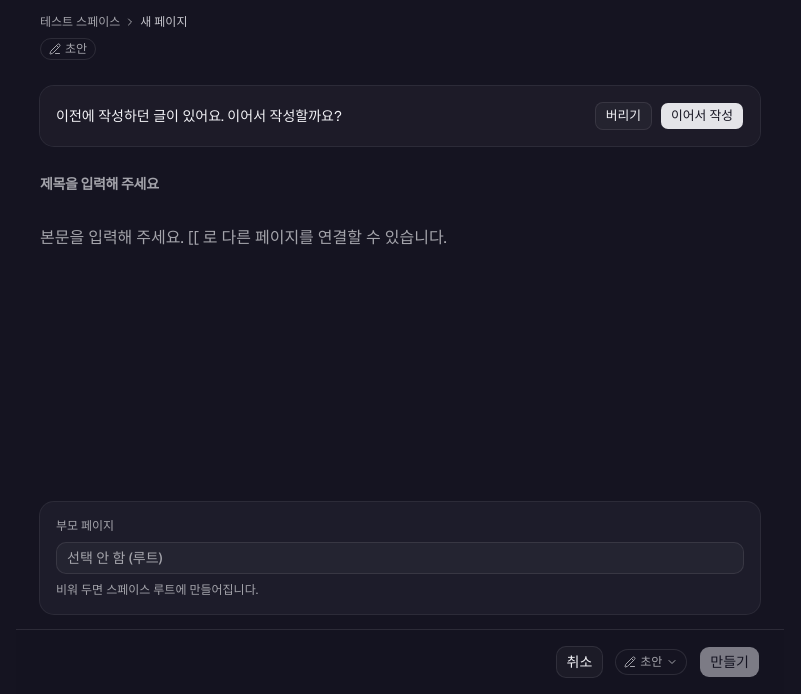
Test: NewPageView — localStorage draft › banner 의 '이어서 작성' 을 누르면 draft 가 폼에 복원된다
Click the button "이어서 작성" at {"x": 702, "y": 116}, box [660, 102, 744, 130]
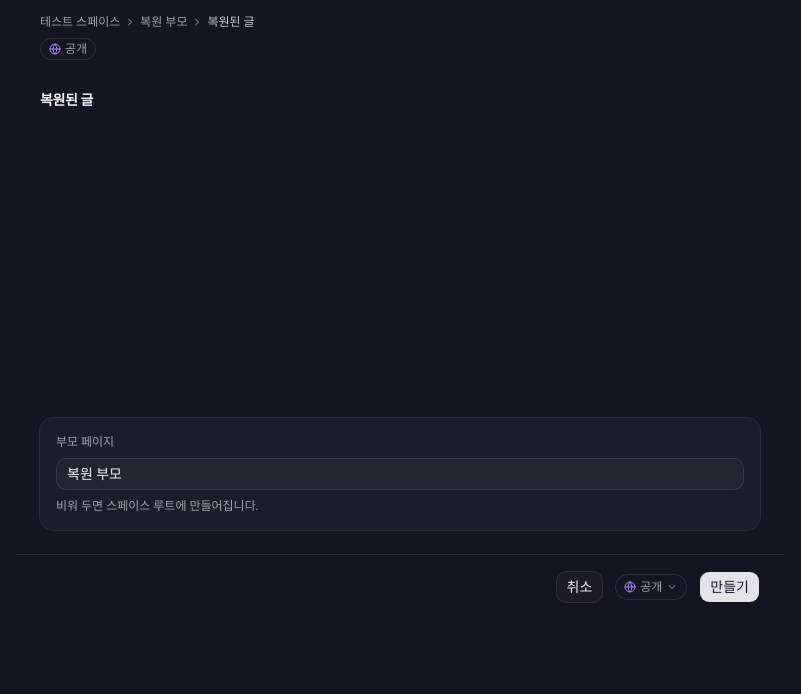
Expected: the field showing "복원된 글" is shown, [40, 86, 760, 114]
Expected: the button with aria-label "부모 페이지 선택" reads "복원 부모", [56, 458, 744, 490]
Expected: the text "이전에 작성하던 글이 있어요" is gone
